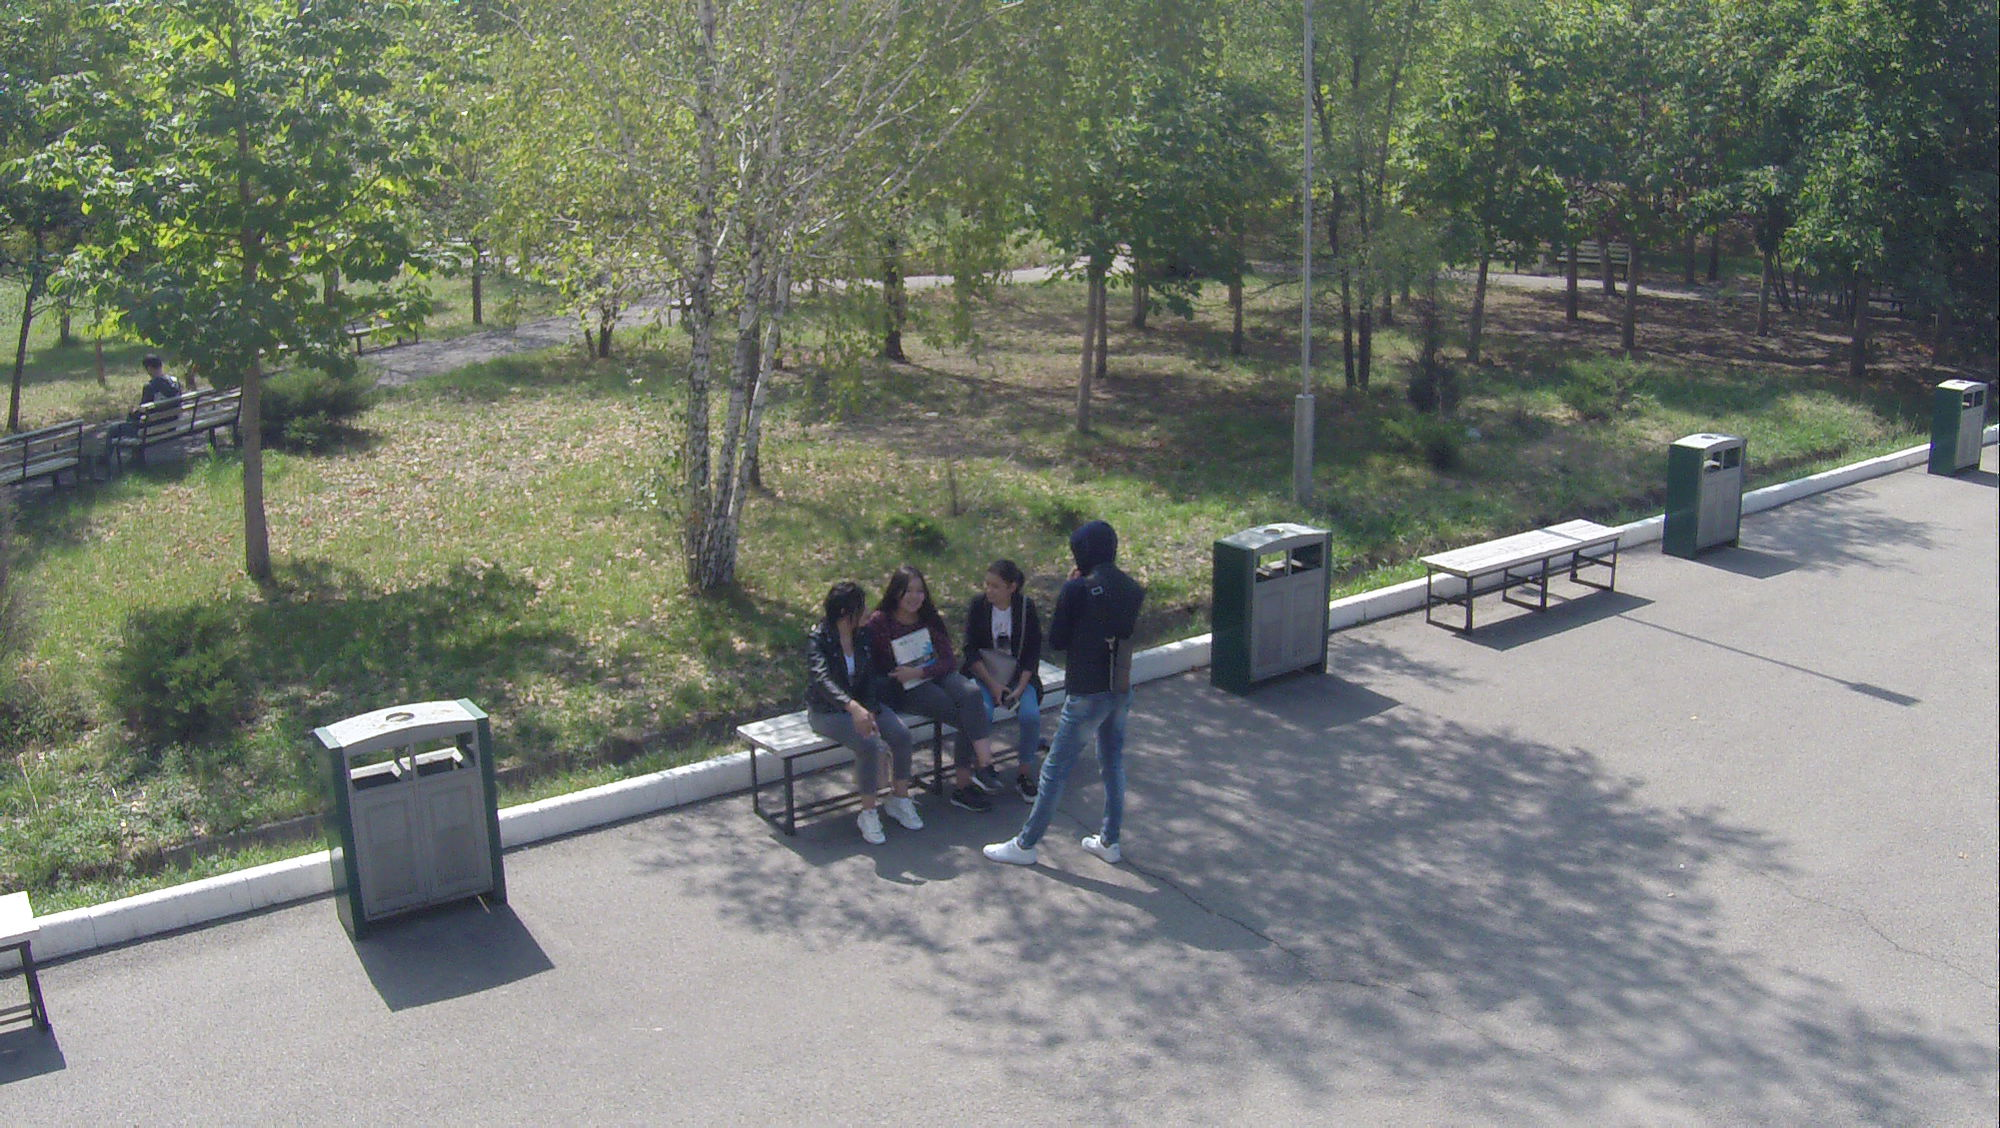person: (1020, 520, 1135, 860), (795, 583, 916, 864), (874, 574, 974, 810), (953, 560, 1051, 803), (99, 355, 187, 472)
